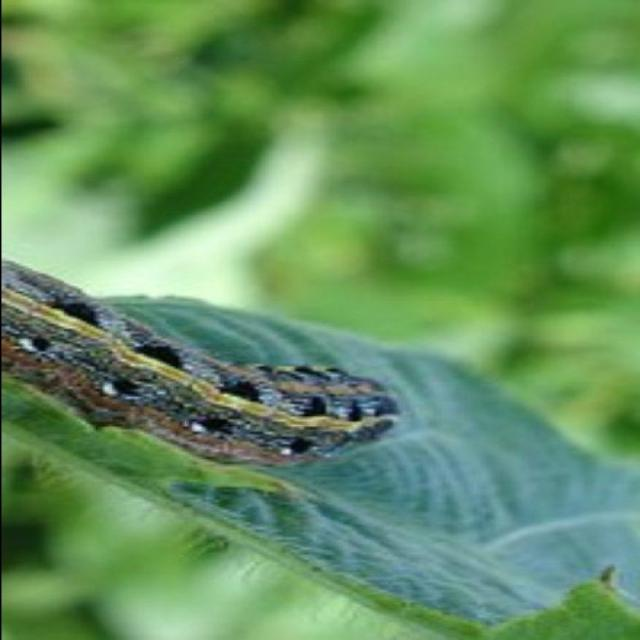army worm: (3, 252, 406, 466)
